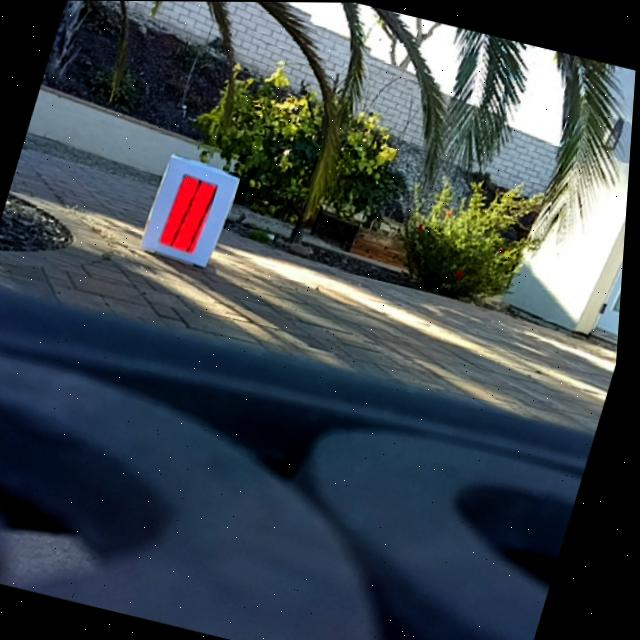led: (160, 172, 221, 256)
